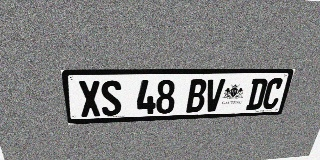4: (137, 80, 157, 115)
8: (156, 80, 176, 114)
B: (186, 79, 207, 113)
C: (261, 78, 285, 109)
D: (245, 78, 269, 110)
S: (100, 80, 122, 116)
V: (203, 79, 225, 112)
X: (78, 81, 102, 117)
